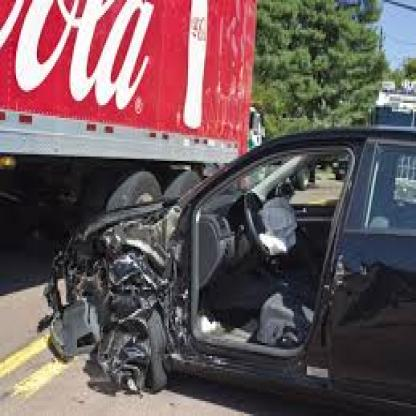accident: (26, 81, 382, 410), (33, 142, 217, 406)
